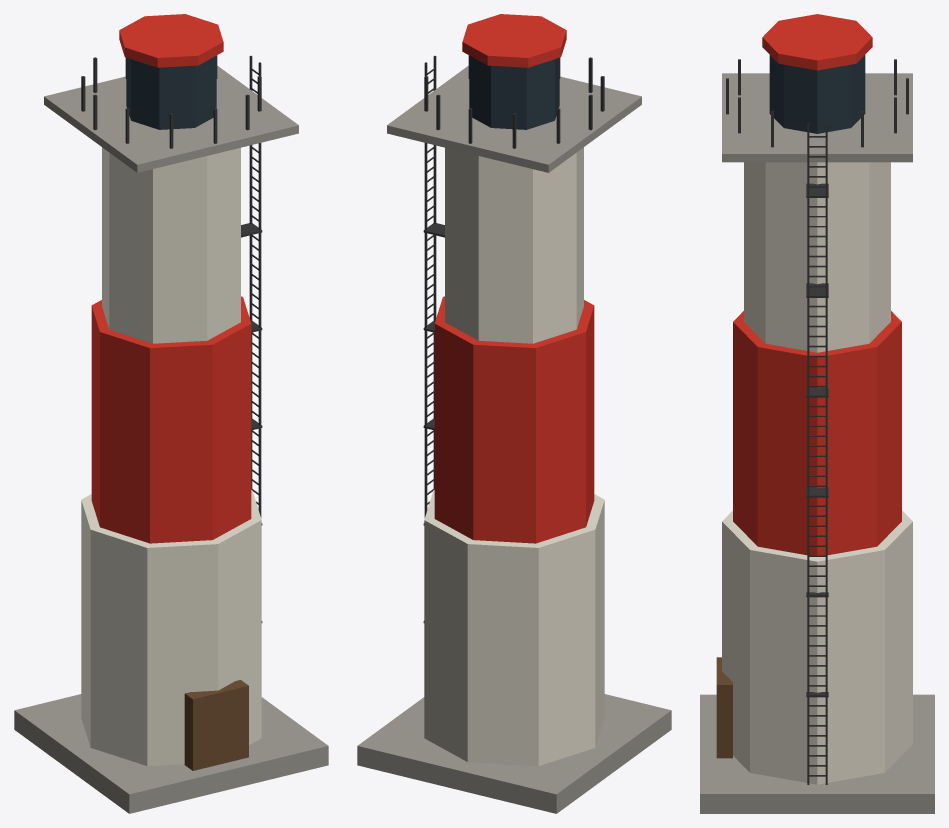
The model's file is farol_torre_a.glb.
3 views of the same model, side by side, from view 1: azimuth 30°, elevation 25°; view 2: azimuth 150°, elevation 25°; view 3: azimuth 270°, elevation 25° (orthographic). The views are drawn at different scales.
Parts seen in each view (by area): view 1: farol_torre_a; view 2: farol_torre_a; view 3: farol_torre_a.
Boxes of the visible parts, x1,y1,x2,y2 form: farol_torre_a: (14,14,328,813); farol_torre_a: (357,14,671,813); farol_torre_a: (700,14,934,813).
Bounding box in the file's own units: 6.4 × 21.85 × 6.4.
